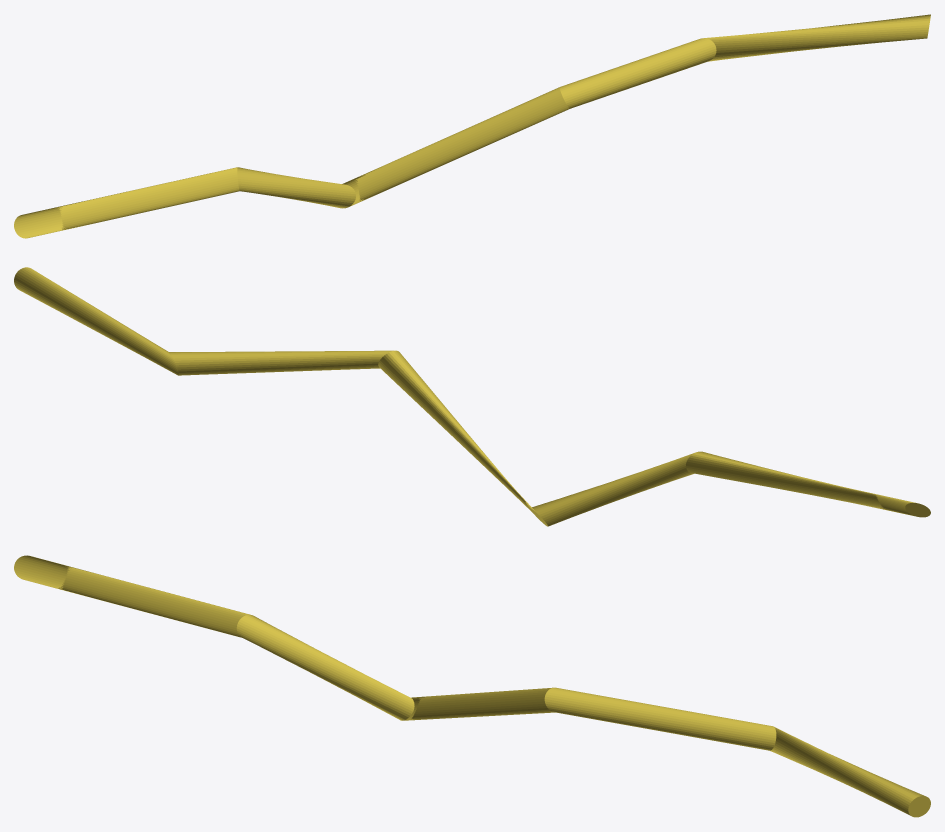
Rendered from lightningBolt.fbx.
The picture shows the model from 3 angles, top to bottom: view 1: azimuth 30°, elevation 25°; view 2: azimuth 150°, elevation 25°; view 3: azimuth 330°, elevation 25°; orthographic projection. The views are drawn at different scales.
Visible parts, largest first — view 1: Cylinder; view 2: Cylinder; view 3: Cylinder.
Boxes of the visible parts, x1,y1,x2,y2 form: Cylinder: [14, 14, 930, 238]; Cylinder: [14, 267, 930, 526]; Cylinder: [14, 555, 930, 817].
Bounding box in the file's own units: 747 × 79.27 × 74.26.
